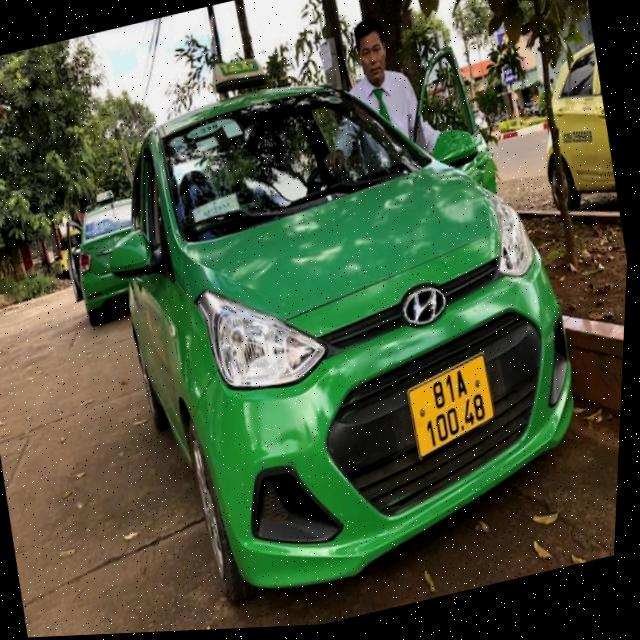car: (54, 9, 616, 626)
plate: (392, 349, 509, 466)
